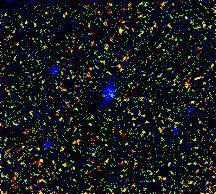star: (111, 23, 141, 53)
